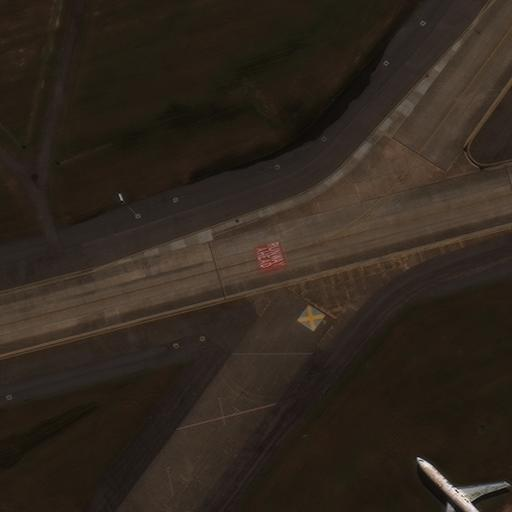Medium Civil Transport: (418, 459, 506, 512)
